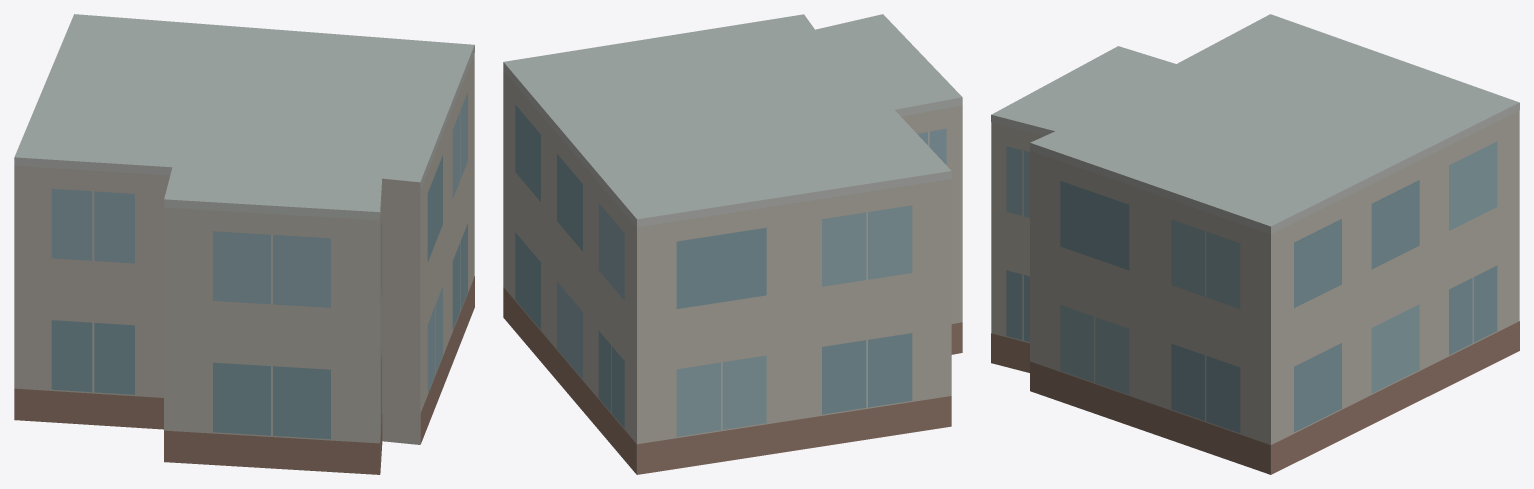
File: survey-upis-32766351.glb
3 views of the same model, side by side, from view 1: azimuth 30°, elevation 25°; view 2: azimuth 150°, elevation 25°; view 3: azimuth 270°, elevation 25° (orthographic). The views are drawn at different scales.
Parts seen in each view (by area): view 1: survey-upis-32766351.tmp; view 2: survey-upis-32766351.tmp; view 3: survey-upis-32766351.tmp.
Part boxes in pixels (left/top/right/bottom): survey-upis-32766351.tmp: left=14, top=14, right=474, bottom=474; survey-upis-32766351.tmp: left=503, top=14, right=962, bottom=474; survey-upis-32766351.tmp: left=991, top=14, right=1519, bottom=474.
Bounding box in the file's own units: 14.32 × 7.8 × 15.05.
